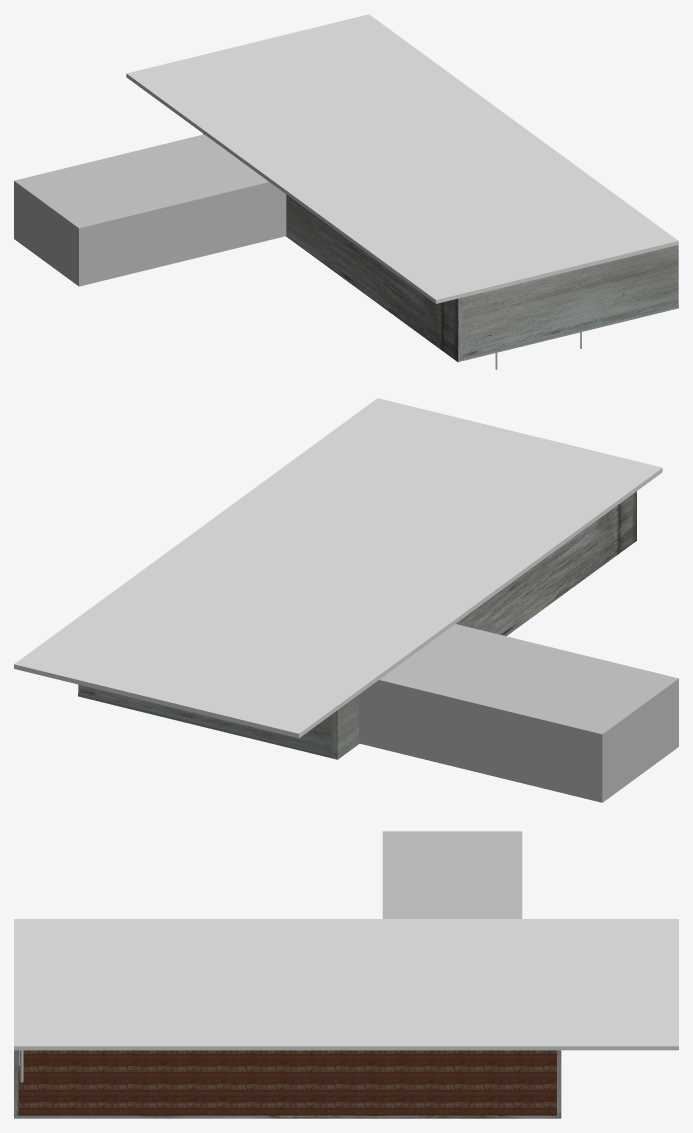
File: envir.fbx
3 renders of one model, top to bottom at view 1: azimuth 30°, elevation 25°; view 2: azimuth 150°, elevation 25°; view 3: azimuth 270°, elevation 25°, orthographic. The views are drawn at different scales.
Visible parts, largest first — view 1: Cube.006, Cube.003, Cube; view 2: Cube.006, Cube.003, Cube; view 3: Cube.006, Cube, Cube.003.
Boxes of the visible parts, bbox=[...] form: Cube.006: bbox=[126, 14, 678, 303]; Cube.003: bbox=[14, 134, 286, 286]; Cube: bbox=[203, 133, 678, 361]; Cube.006: bbox=[14, 398, 662, 738]; Cube.003: bbox=[359, 624, 678, 802]; Cube: bbox=[78, 491, 636, 759]; Cube.006: bbox=[14, 919, 678, 1050]; Cube: bbox=[14, 1050, 561, 1118]; Cube.003: bbox=[382, 831, 522, 918].
Size of the model in its own units: 7392 by 1423 by 9255.
